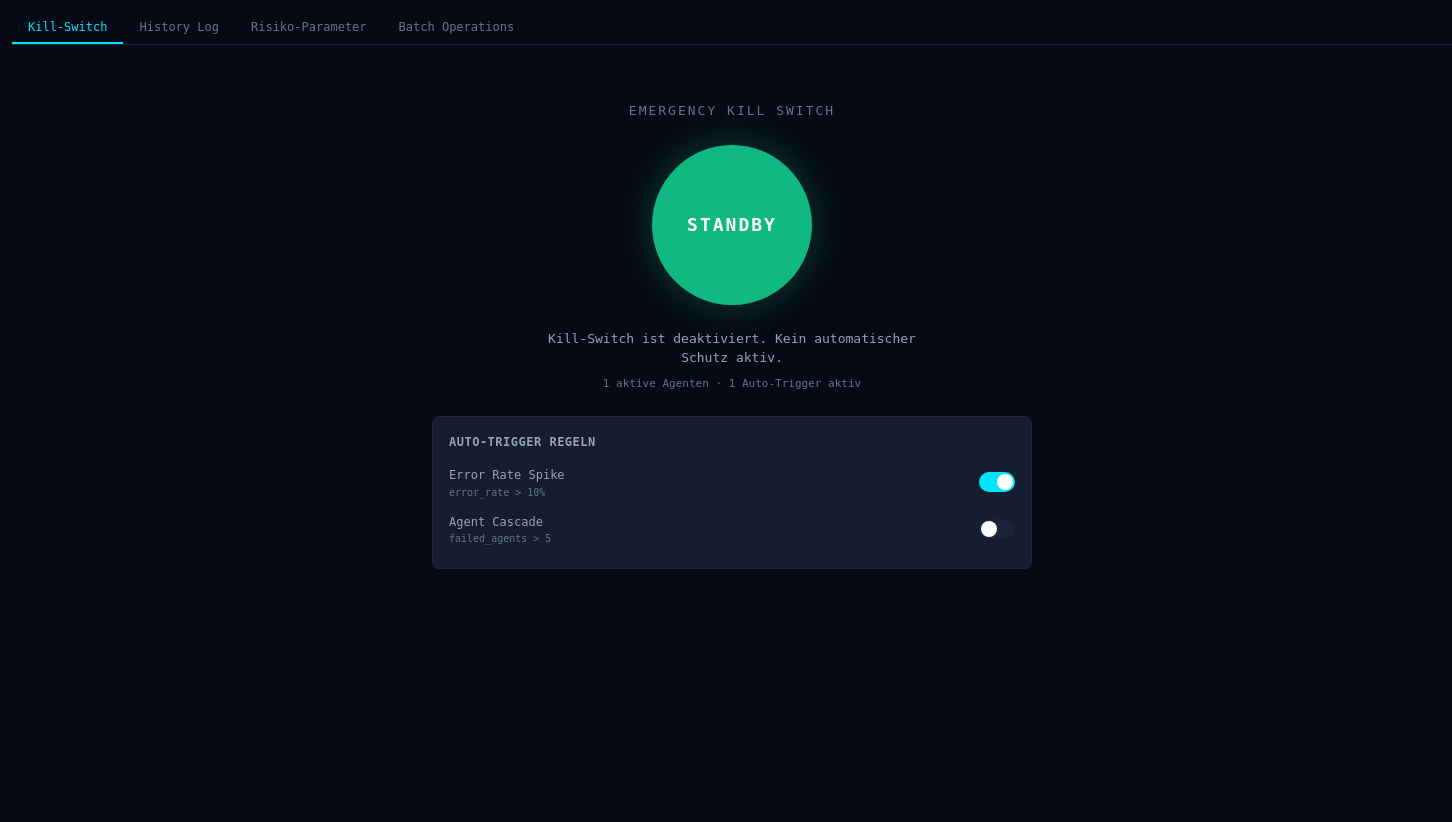
Test: KillSwitchView › switches to risk tab
Click the button "Risiko-Parameter". click: (309, 28)
box: [235,12,383,44]
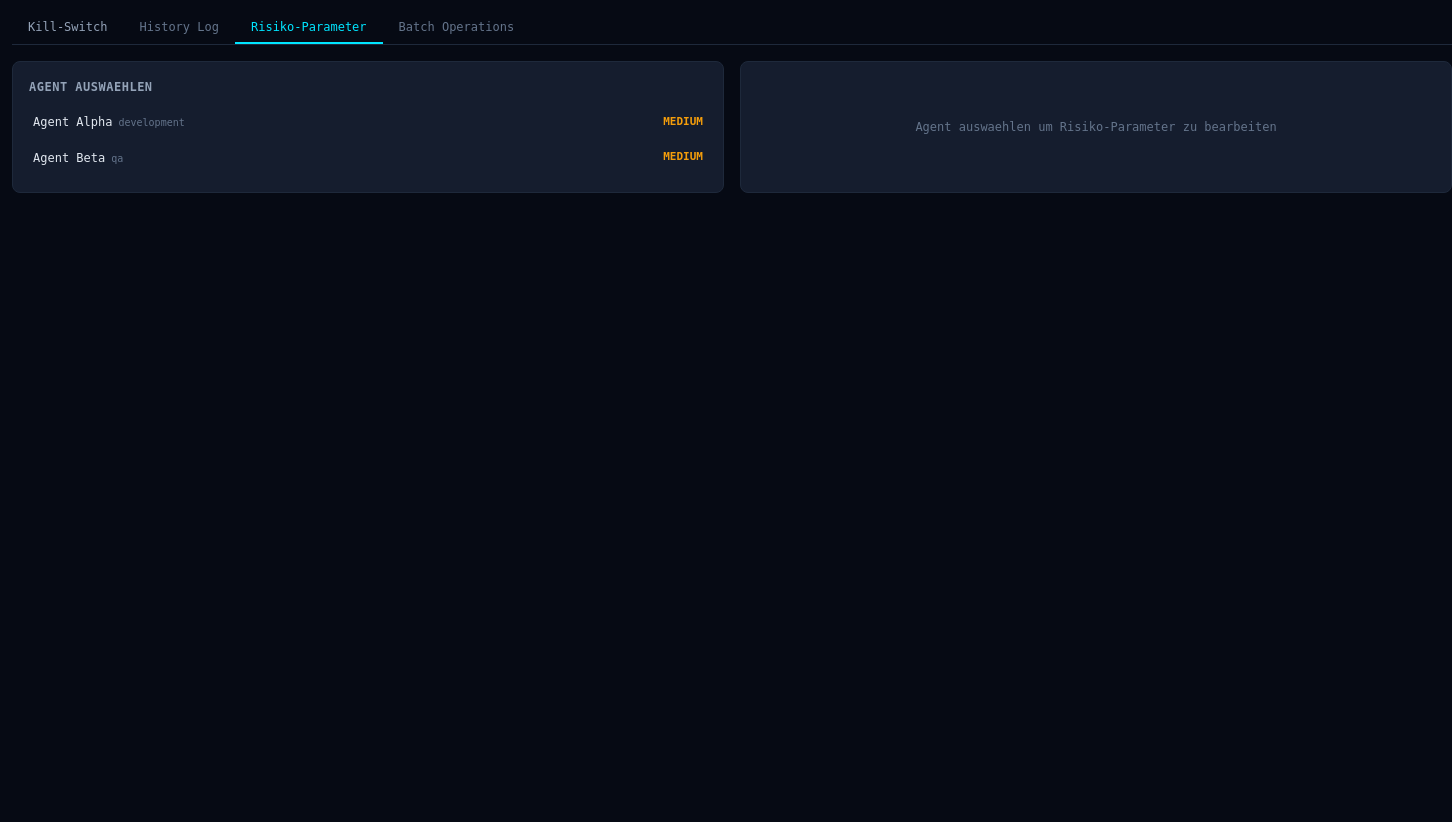
Expected: the text "Agent auswaehlen um Risiko-Parameter zu bearbeiten" is shown, [915,120,1277,134]
